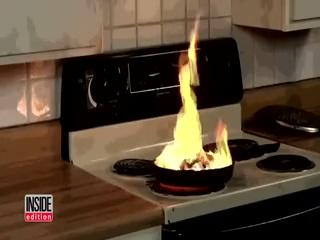Fire: (152, 9, 234, 174)
